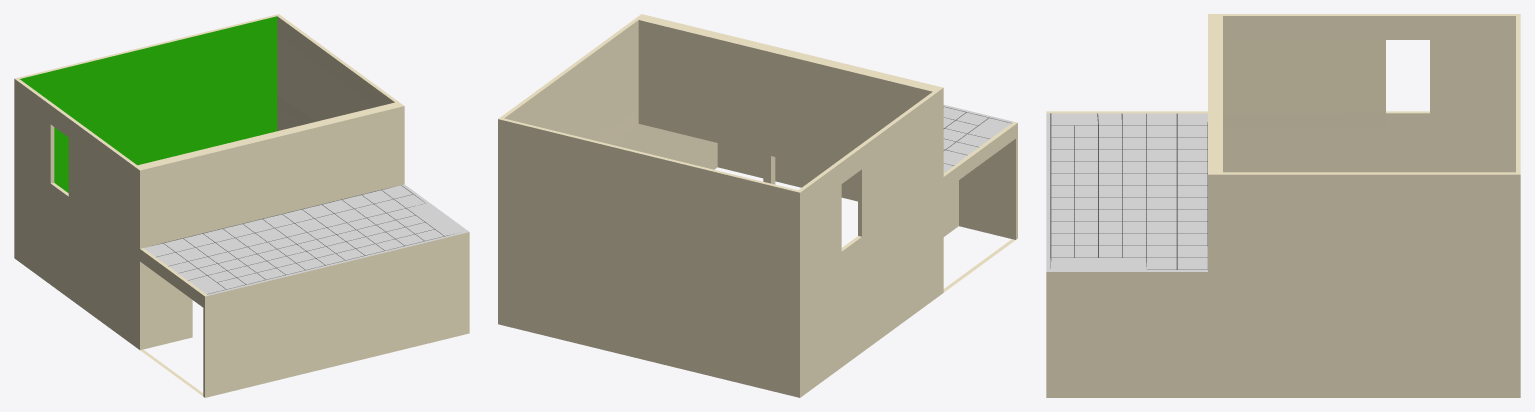
File: Salle_Amphi.fbx
3 views of the same model, side by side, from view 1: azimuth 30°, elevation 25°; view 2: azimuth 150°, elevation 25°; view 3: azimuth 270°, elevation 25° (orthographic). The views are drawn at different scales.
Visible parts, largest first — view 1: Salle_Amphi; view 2: Salle_Amphi; view 3: Salle_Amphi.
Boxes of the visible parts, x1,y1,x2,y2 form: Salle_Amphi: (14,14,469,397); Salle_Amphi: (498,14,1017,397); Salle_Amphi: (1046,14,1520,397).
Bounding box in the file's own units: 816 × 530 × 1020.
